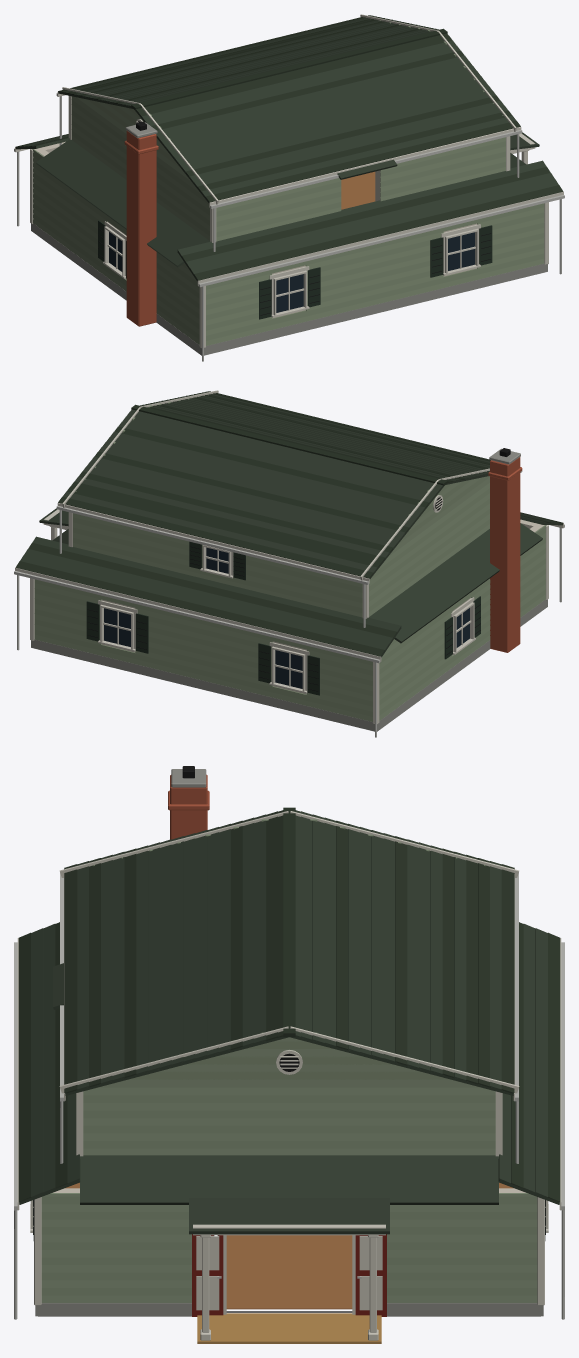
Rendered from house-sage-attic.glb.
3 views of the same model, one above another, from view 1: azimuth 30°, elevation 25°; view 2: azimuth 150°, elevation 25°; view 3: azimuth 270°, elevation 25° (orthographic). The views are drawn at different scales.
Visible parts, largest first — view 1: house-sage-attic; view 2: house-sage-attic; view 3: house-sage-attic.
Boxes of the visible parts, x1=… form: house-sage-attic: x1=14, y1=14, x2=564, y2=361; house-sage-attic: x1=14, y1=390, x2=564, y2=737; house-sage-attic: x1=14, y1=766, x2=564, y2=1343.
Bounding box in the file's own units: 16.67 × 7.67 × 13.14.
